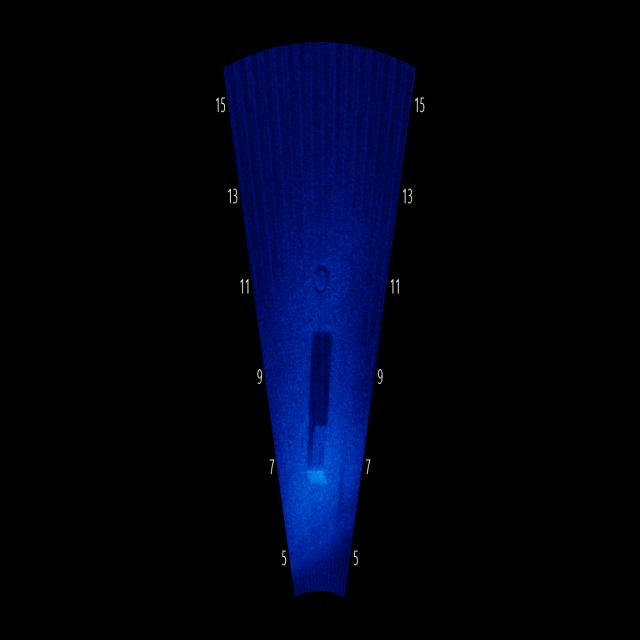circle: (307, 256, 338, 298)
square: (302, 406, 338, 502)
